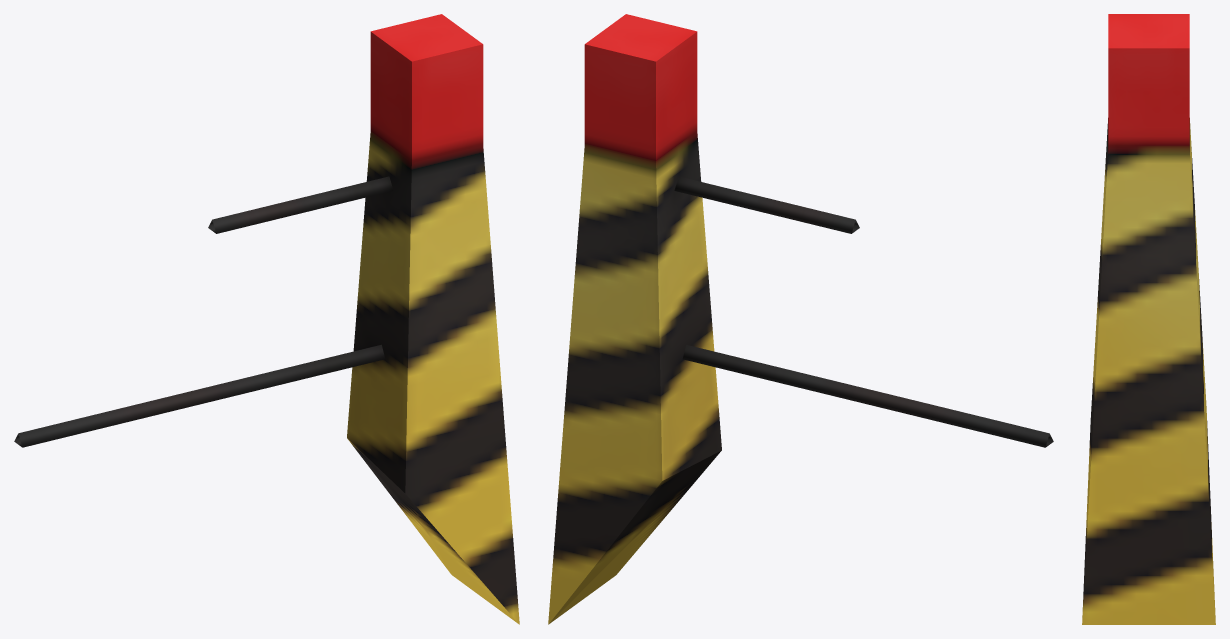
Rendered from B1Broke03.FBX.
3 views of the same model, side by side, from view 1: azimuth 30°, elevation 25°; view 2: azimuth 150°, elevation 25°; view 3: azimuth 270°, elevation 25° (orthographic).
Visible parts, largest first — view 1: B1Broke03; view 2: B1Broke03; view 3: B1Broke03.
Part boxes in pixels (bbox=[...]): B1Broke03: bbox=[14, 14, 519, 624]; B1Broke03: bbox=[548, 14, 1053, 624]; B1Broke03: bbox=[1082, 14, 1215, 624].
Bounding box in the file's own units: 40.21 × 47.41 × 10.16.
